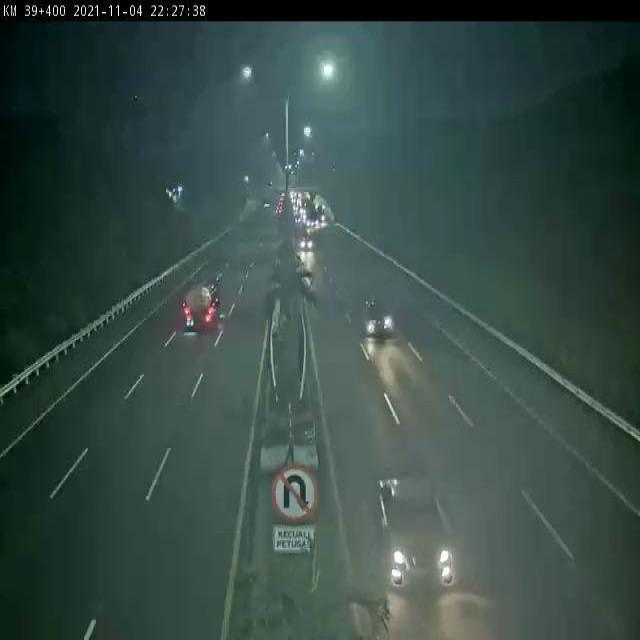car: (379, 475, 455, 589), (365, 296, 392, 339)
truck: (183, 279, 223, 332)
